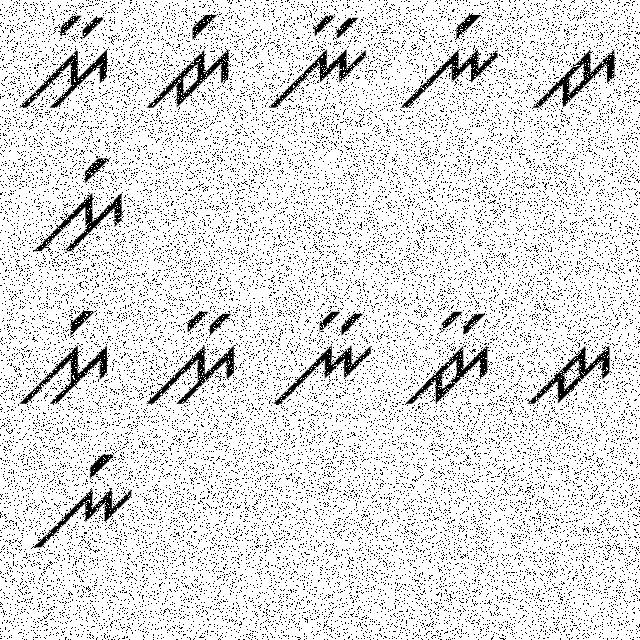ja: (524, 26, 626, 135), (516, 321, 612, 407)
jan: (395, 302, 501, 409)
jang: (143, 12, 235, 110)
nyan: (266, 306, 378, 408), (258, 9, 370, 108)
nyang: (388, 11, 501, 111), (29, 452, 138, 554)
san: (146, 304, 242, 412), (19, 9, 118, 110)
sang: (24, 153, 131, 260), (18, 300, 115, 406)
